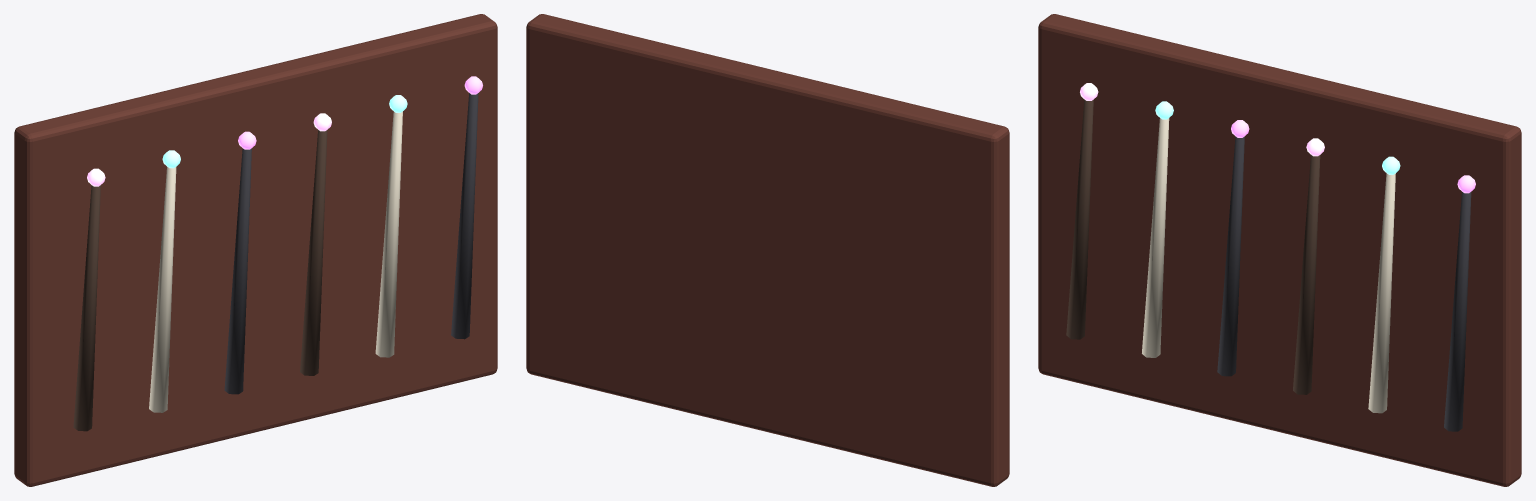
The model's file is wand_rack_wall_wands.glb.
3 views of the same model, side by side, from view 1: azimuth 30°, elevation 25°; view 2: azimuth 150°, elevation 25°; view 3: azimuth 330°, elevation 25° (orthographic).
Visible parts, largest first — view 1: GD_wand_rack_wall_wands__m0, GD_wand_rack_wall_wands__m3, GD_wand_rack_wall_wands__m1, GD_wand_rack_wall_wands__m6, GD_wand_rack_wall_wands__m4, GD_wand_rack_wall_wands__m5, GD_wand_rack_wall_wands__m2; view 2: GD_wand_rack_wall_wands__m0; view 3: GD_wand_rack_wall_wands__m0, GD_wand_rack_wall_wands__m3, GD_wand_rack_wall_wands__m6, GD_wand_rack_wall_wands__m1, GD_wand_rack_wall_wands__m2, GD_wand_rack_wall_wands__m5, GD_wand_rack_wall_wands__m4.
Boxes of the visible parts, x1=… form: GD_wand_rack_wall_wands__m0: x1=14, y1=14, x2=497, y2=486; GD_wand_rack_wall_wands__m3: x1=224, y1=93, x2=478, y2=394; GD_wand_rack_wall_wands__m1: x1=73, y1=130, x2=327, y2=431; GD_wand_rack_wall_wands__m6: x1=149, y1=111, x2=402, y2=412; GD_wand_rack_wall_wands__m4: x1=238, y1=76, x2=482, y2=149; GD_wand_rack_wall_wands__m5: x1=87, y1=113, x2=331, y2=186; GD_wand_rack_wall_wands__m2: x1=162, y1=95, x2=407, y2=168; GD_wand_rack_wall_wands__m0: x1=526, y1=14, x2=1009, y2=486; GD_wand_rack_wall_wands__m0: x1=1038, y1=14, x2=1521, y2=486; GD_wand_rack_wall_wands__m3: x1=1217, y1=136, x2=1471, y2=431; GD_wand_rack_wall_wands__m6: x1=1142, y1=118, x2=1395, y2=413; GD_wand_rack_wall_wands__m1: x1=1066, y1=99, x2=1320, y2=394; GD_wand_rack_wall_wands__m2: x1=1155, y1=101, x2=1400, y2=174; GD_wand_rack_wall_wands__m5: x1=1080, y1=83, x2=1324, y2=156; GD_wand_rack_wall_wands__m4: x1=1231, y1=120, x2=1475, y2=193.
Bounding box in the file's own units: 0.7 × 0.5 × 0.072.
